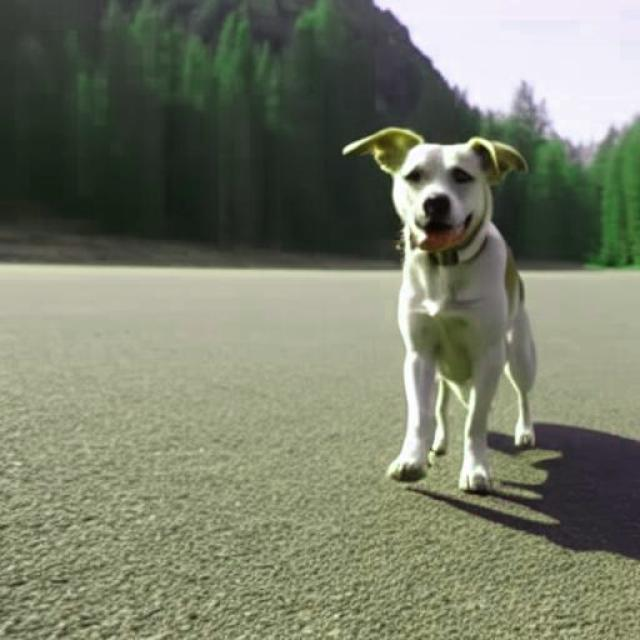Dog: (342, 126, 538, 496)
